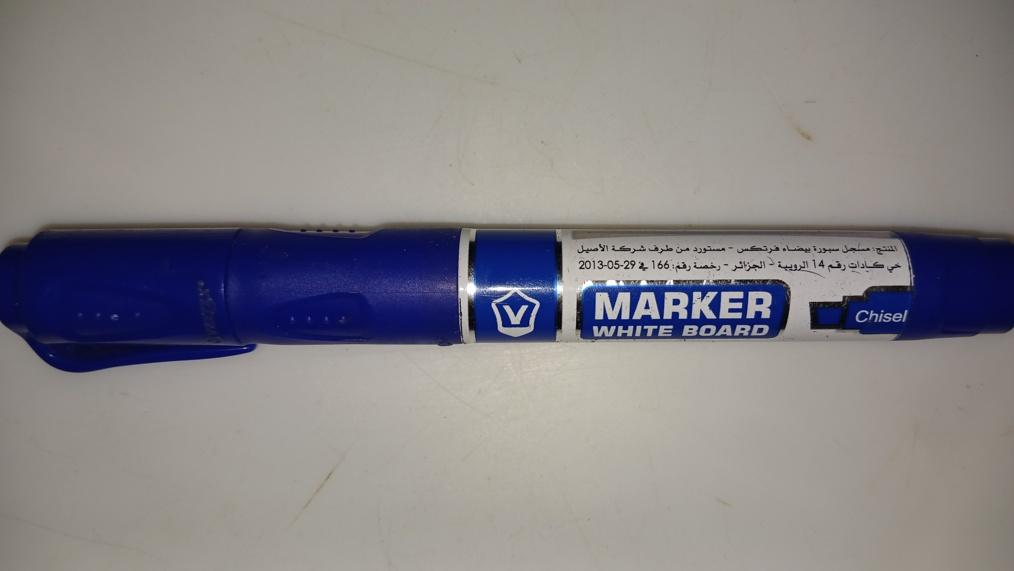Whiteboard marker: (2, 229, 1014, 370)
